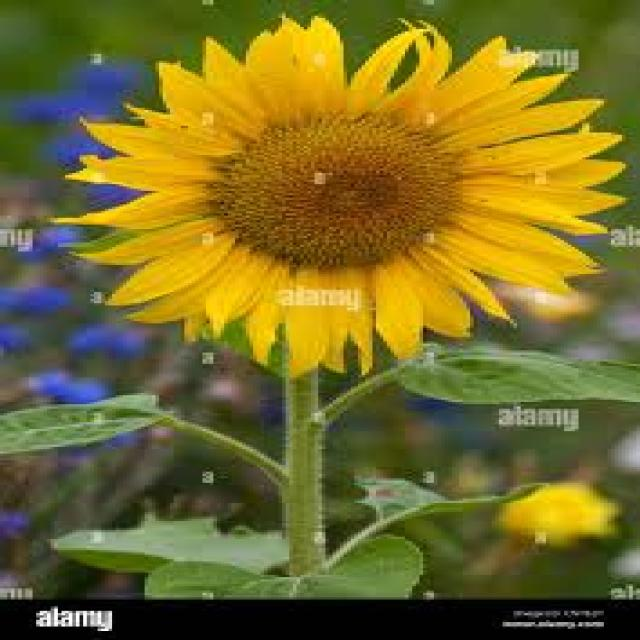sunflower: (38, 11, 631, 380), (485, 481, 627, 555)
